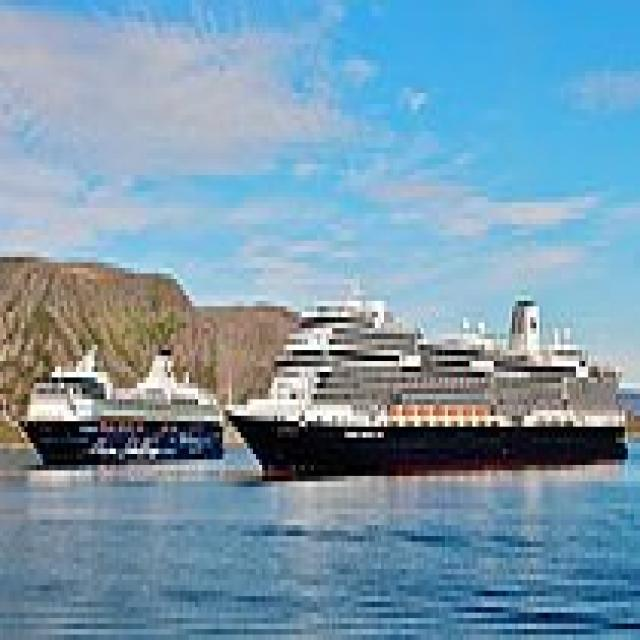Ship: (223, 258, 640, 504), (10, 308, 239, 483)
